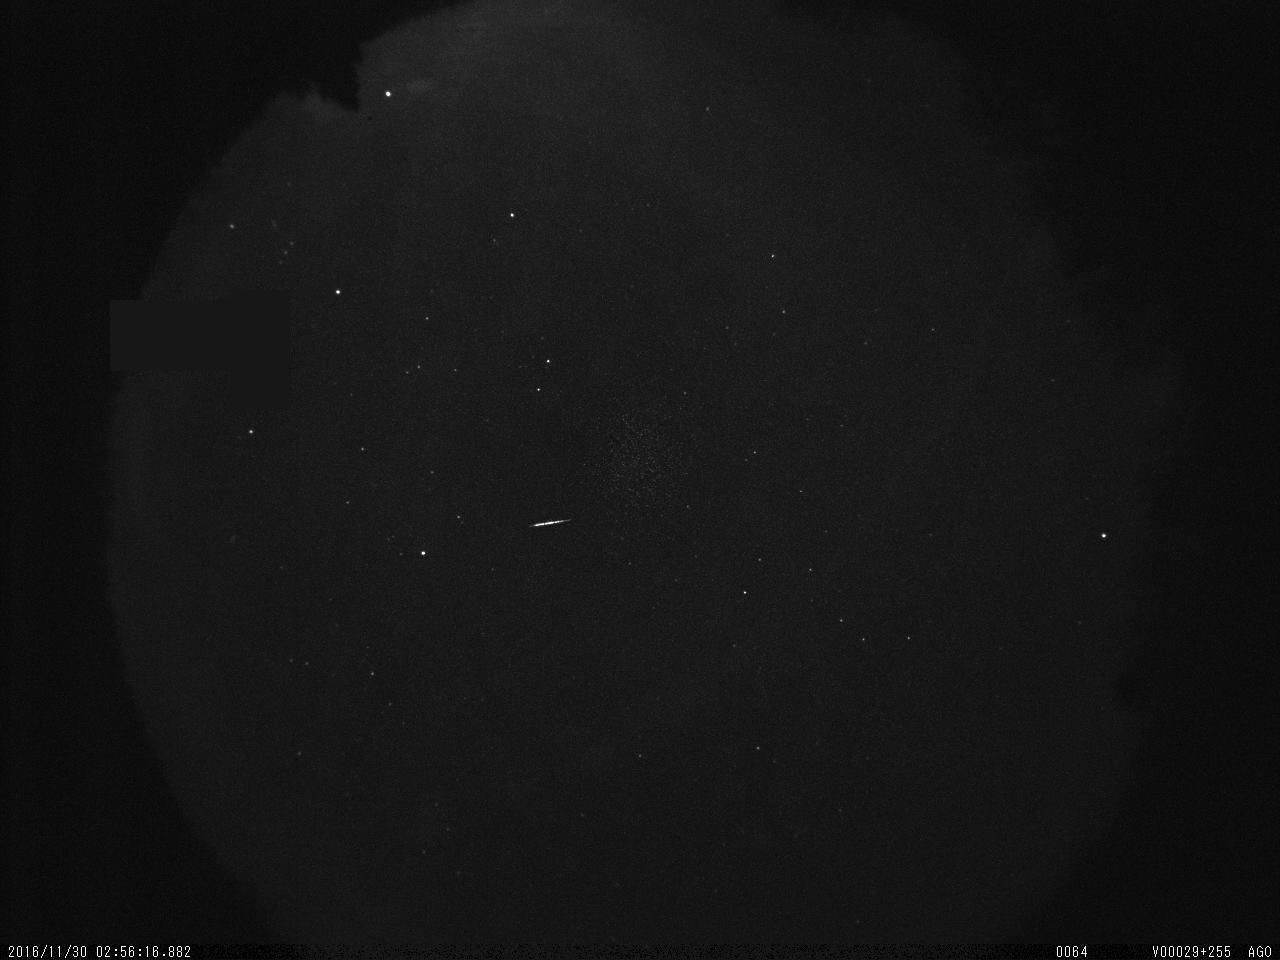Meteor: (531, 515, 572, 529)
